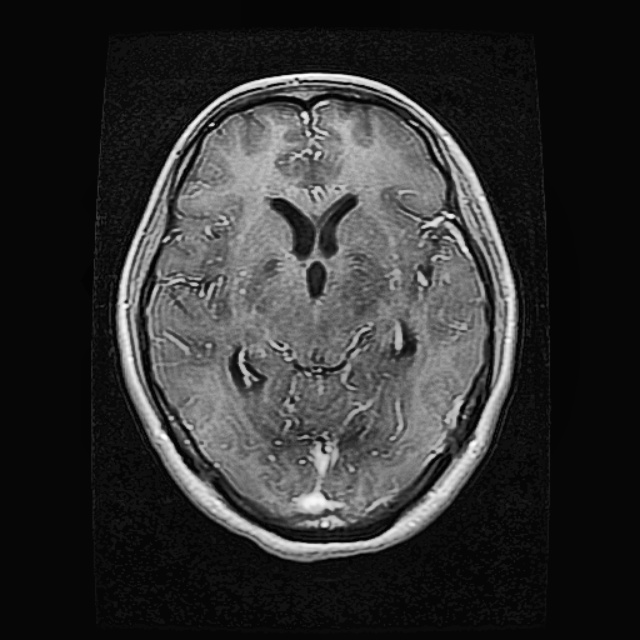Glioma: (229, 343, 267, 395)
